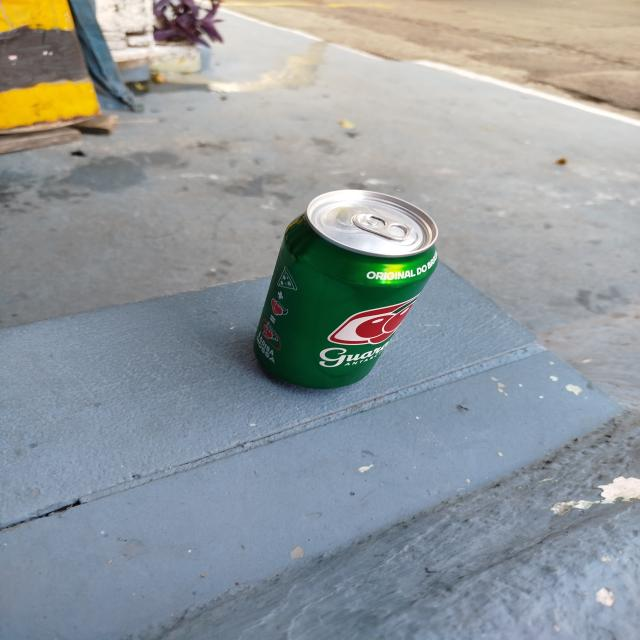Guarana: (254, 189, 436, 384)
